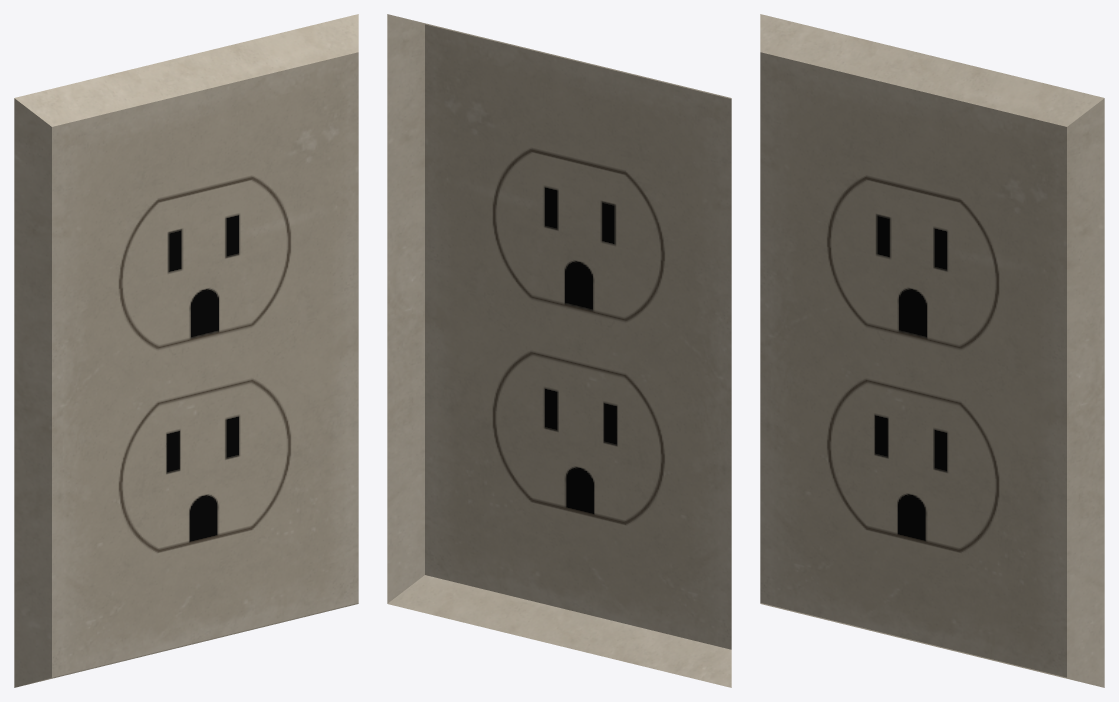
Rendered from Outlet.fbx.
The picture shows the model from 3 angles, left to right: view 1: azimuth 30°, elevation 25°; view 2: azimuth 150°, elevation 25°; view 3: azimuth 330°, elevation 25°; orthographic projection.
Parts seen in each view (by area): view 1: Outlet; view 2: Outlet; view 3: Outlet.
Boxes of the visible parts, box(x1,y1,x2,y2) form: Outlet: box(14, 14, 358, 687); Outlet: box(387, 14, 731, 687); Outlet: box(760, 14, 1104, 687).
Bounding box in the file's own units: 7.33 × 12 × 0.7.
